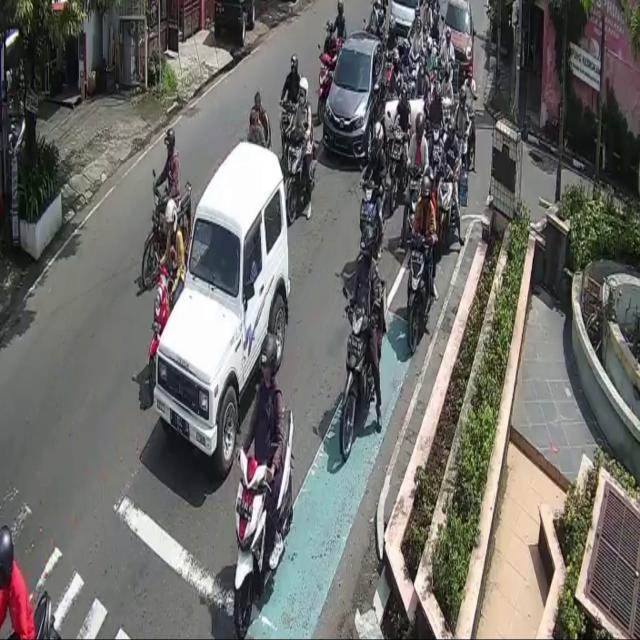car: (154, 140, 292, 483), (322, 30, 388, 167), (442, 0, 472, 85)
motorbike: (233, 410, 293, 640), (339, 303, 371, 465), (284, 128, 319, 228), (407, 233, 433, 357), (436, 164, 456, 258)
